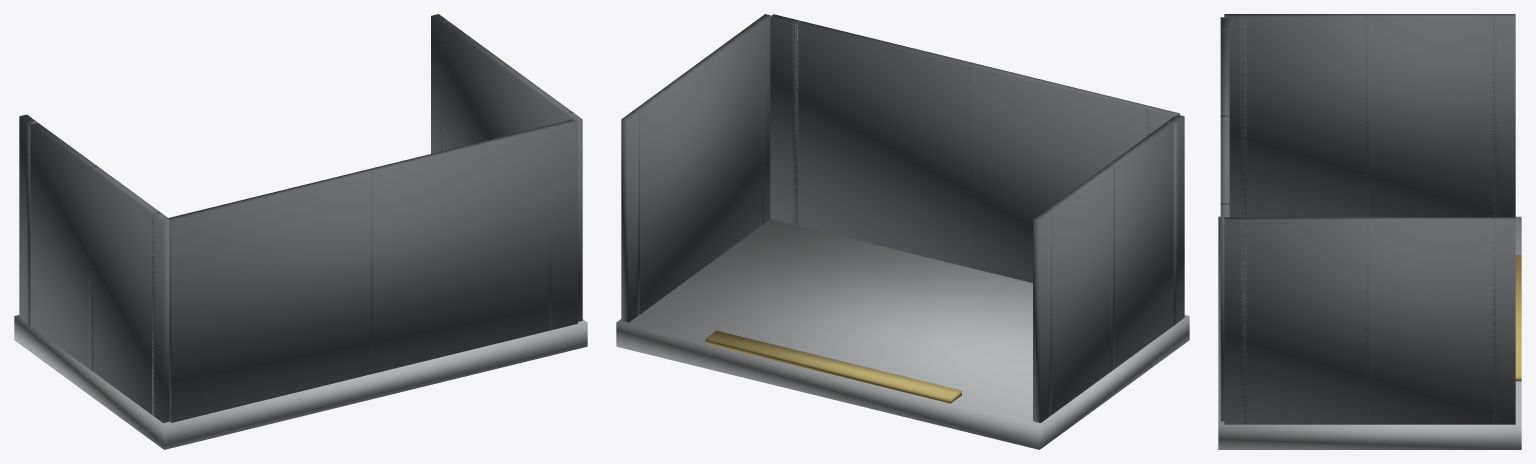
The model's file is floor_w220_d135_three.glb.
The picture shows the model from 3 angles, left to right: view 1: azimuth 30°, elevation 25°; view 2: azimuth 150°, elevation 25°; view 3: azimuth 270°, elevation 25°; orthographic projection.
Visible parts, largest first — view 1: world; view 2: world; view 3: world.
Boxes of the visible parts, x1,y1,x2,y2 form: world: (14,14,587,449); world: (616,14,1189,449); world: (1218,14,1521,449).
Size of the model in its own units: 2.2 by 1.12 by 1.35.
